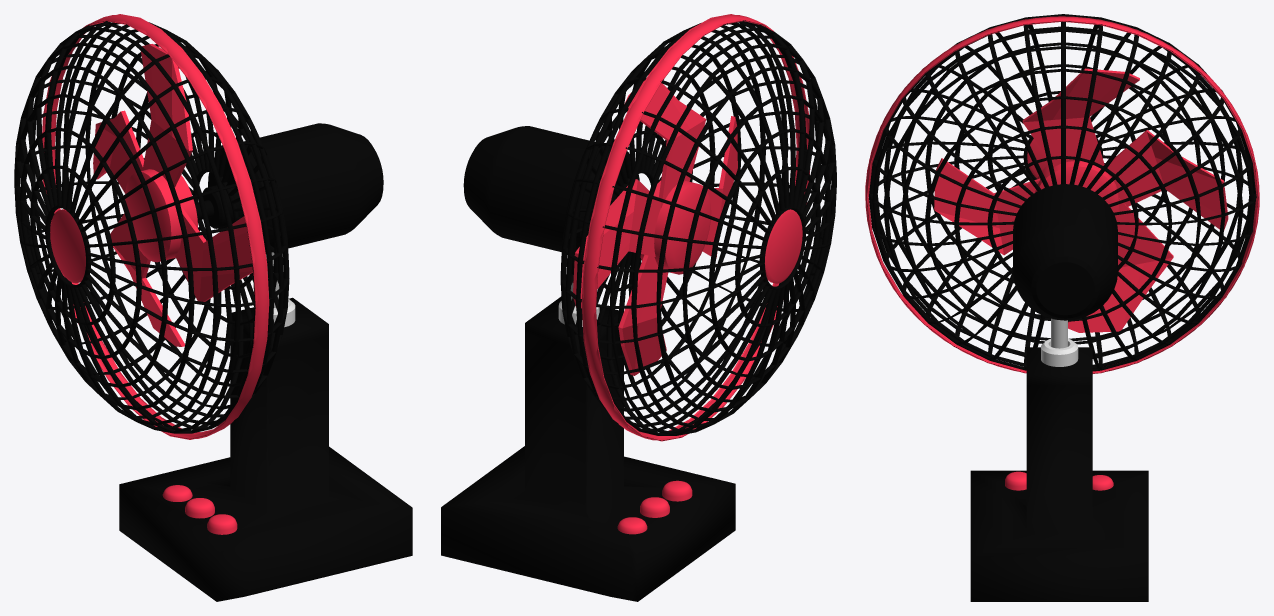
Rendered from bahraya.gltf.
3 views of the same model, side by side, from view 1: azimuth 30°, elevation 25°; view 2: azimuth 150°, elevation 25°; view 3: azimuth 270°, elevation 25° (orthographic). The views are drawn at different scales.
Parts seen in each view (by area): view 1: Sphere, Cube, Cylinder.005, Circle, Plane, Cylinder.006, Plane.001, Cylinder.007, Plane.002, Plane.003, Cylinder.004, Cylinder.003; view 2: Sphere, Cube, Cylinder.005, Circle, Plane.003, Cylinder.006, Plane.002, Plane, Cylinder.007, Plane.001, Cylinder.004, Cylinder.003; view 3: Sphere, Cube, Cylinder.005, Circle, Plane.003, Plane, Plane.002, Plane.001, Cylinder.006, Cylinder.
Part boxes in pixels (bbox=[...]): Sphere: bbox=[14, 21, 289, 433]; Cube: bbox=[119, 297, 412, 601]; Cylinder.005: bbox=[194, 123, 383, 253]; Circle: bbox=[42, 14, 269, 439]; Plane: bbox=[141, 44, 192, 186]; Cylinder.006: bbox=[125, 169, 197, 262]; Plane.001: bbox=[175, 207, 252, 301]; Cylinder.007: bbox=[50, 209, 85, 283]; Plane.002: bbox=[110, 213, 184, 346]; Plane.003: bbox=[93, 110, 144, 193]; Cylinder.004: bbox=[207, 514, 237, 534]; Cylinder.003: bbox=[185, 498, 214, 518]; Sphere: bbox=[560, 21, 836, 435]; Cube: bbox=[441, 296, 735, 601]; Cylinder.005: bbox=[463, 126, 639, 251]; Circle: bbox=[581, 14, 810, 441]; Plane.003: bbox=[573, 179, 661, 308]; Cylinder.006: bbox=[640, 180, 711, 274]; Plane.002: bbox=[618, 254, 668, 375]; Plane: bbox=[624, 80, 706, 207]; Cylinder.007: bbox=[764, 209, 802, 283]; Plane.001: bbox=[702, 116, 737, 257]; Cylinder.004: bbox=[662, 480, 692, 501]; Cylinder.003: bbox=[640, 497, 669, 517]; Sphere: bbox=[869, 14, 1256, 371]; Cube: bbox=[970, 347, 1148, 601]; Cylinder.005: bbox=[1013, 184, 1117, 320]; Circle: bbox=[865, 16, 1259, 373]; Plane.003: bbox=[1107, 130, 1228, 230]; Plane: bbox=[1022, 68, 1139, 166]; Plane.002: bbox=[1068, 198, 1173, 332]; Plane.001: bbox=[934, 158, 1039, 255]; Cylinder.006: bbox=[1035, 161, 1119, 218]; Cylinder: bbox=[1041, 338, 1078, 366].
Size of the model in its own units: 3.59 by 6.1 by 4.43.
